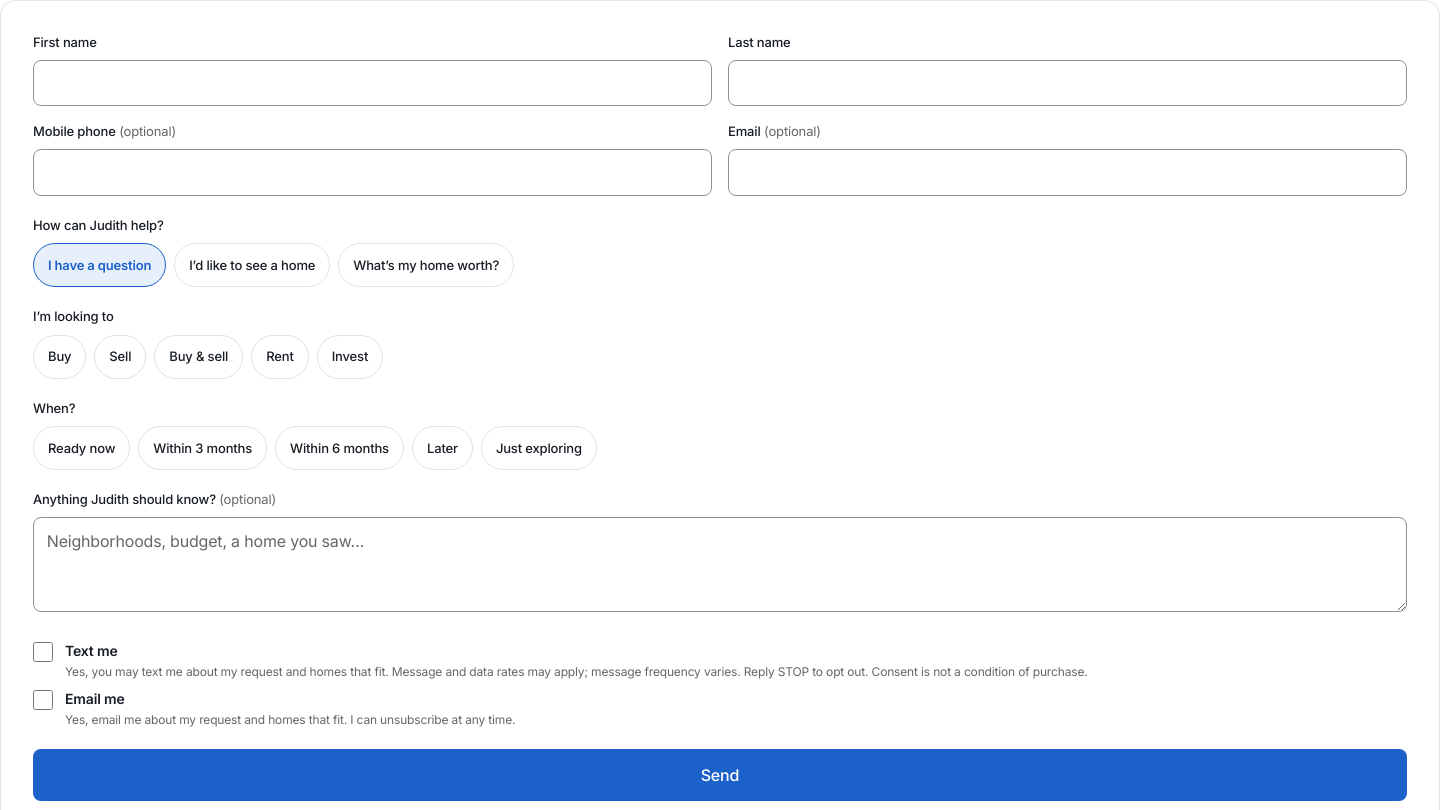
Test: LeadPageForm › shows field errors and keeps typed values
Click the button "Send".
click(720, 775)  # box [33,749,1407,801]
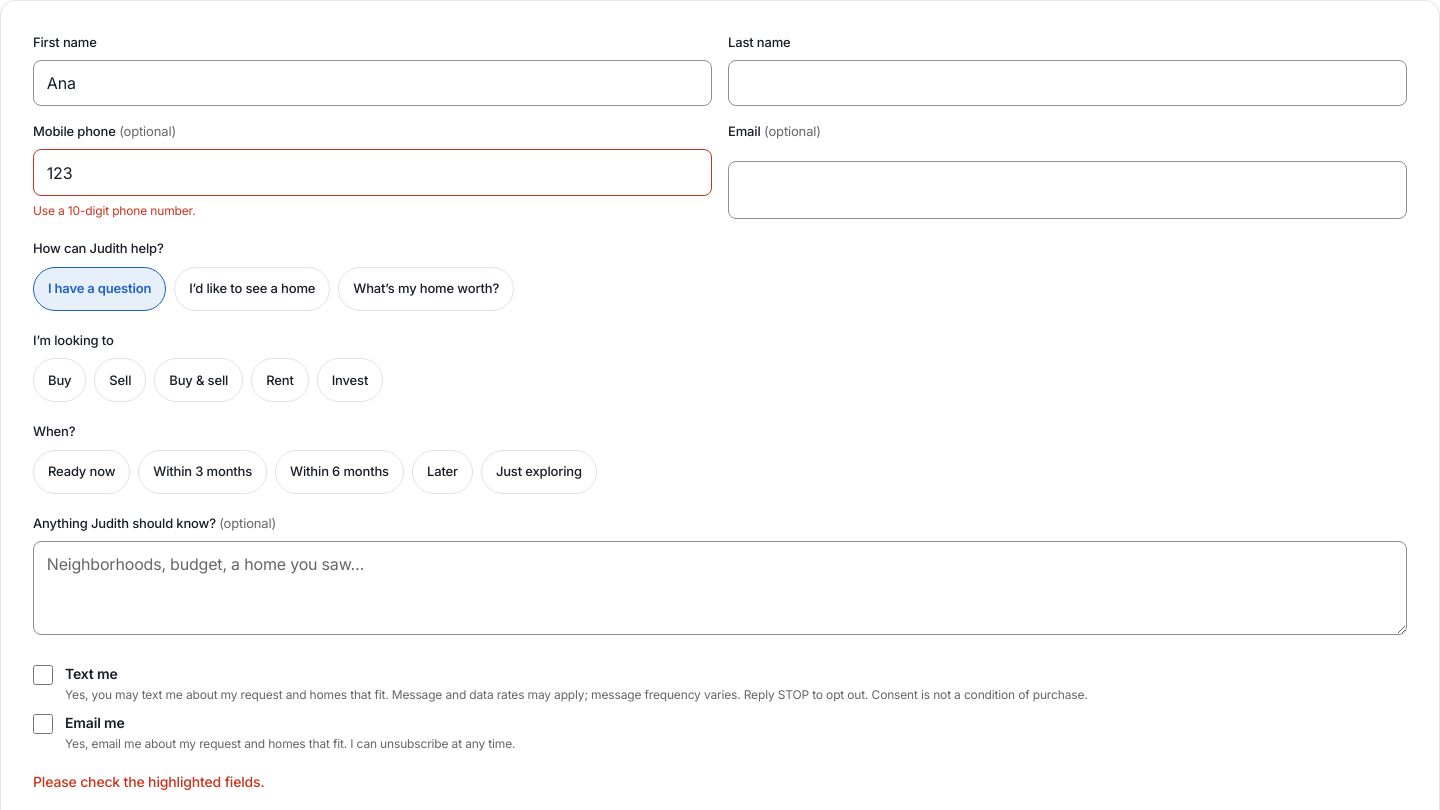
Now the message shows "Please check", box [33,773,265,790]
Now the field labelled "First name" holds "Ana", box [33,60,712,106]
